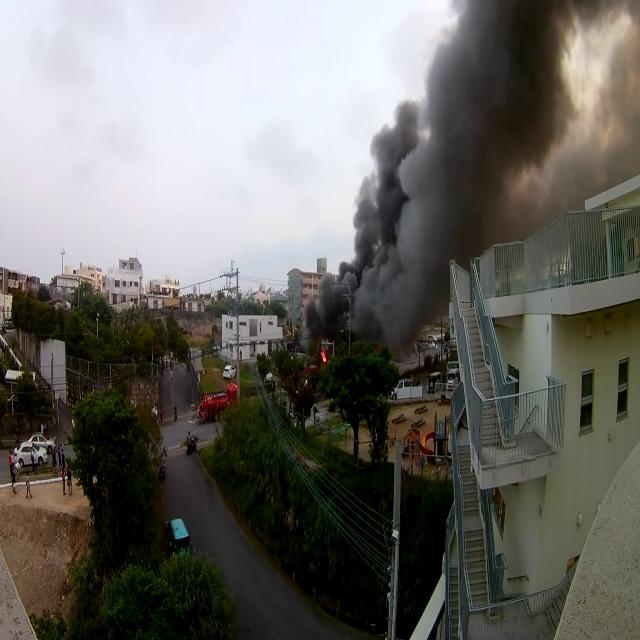Fire: (320, 348, 327, 362)
